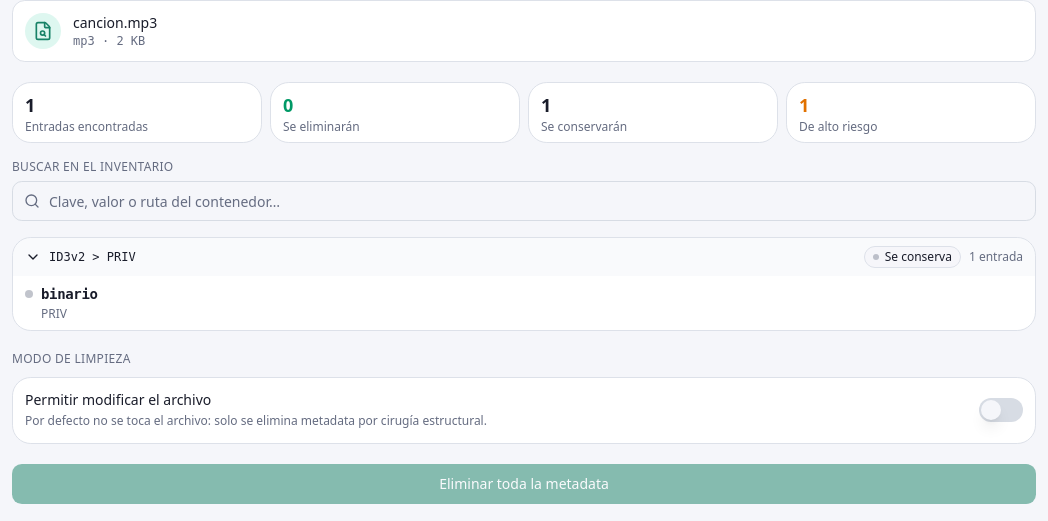
Test: <MetaStripView /> — inventario › con el switch activado (deep) sí elimina las entradas eliminables aunque en light no haya bloques
Check: the text "Entradas encontradas" is shown, box [25,118,148,135]
Click the switch named "Permitir modificar el archivo" at (1001,410), box [979,398,1023,422]
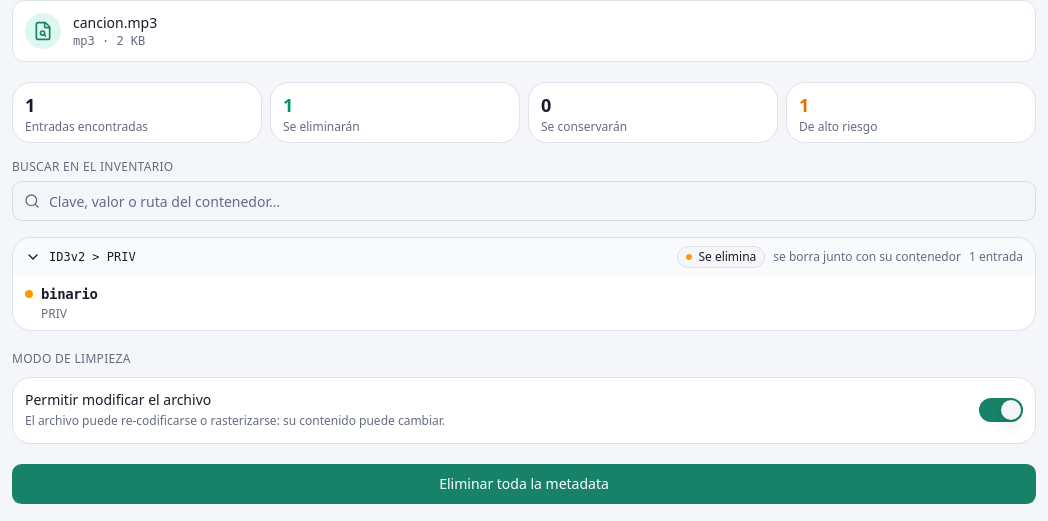
Check: the text "Se elimina" is shown once, box [677,246,765,268]
Check: the button "Eliminar toda la metadata" is enabled, box [12,464,1036,504]
